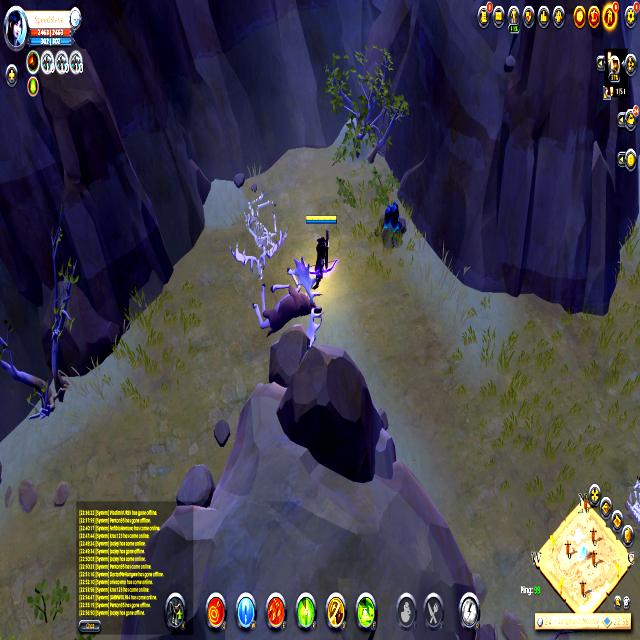mob: (245, 258, 328, 354)
player: (377, 198, 409, 252)
red: (302, 209, 339, 289)
